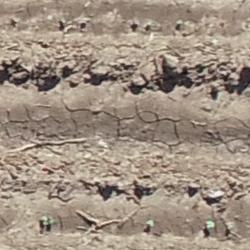cotton: (44, 216, 53, 224), (207, 220, 214, 228), (145, 219, 152, 226), (177, 18, 182, 24), (147, 22, 152, 25)
